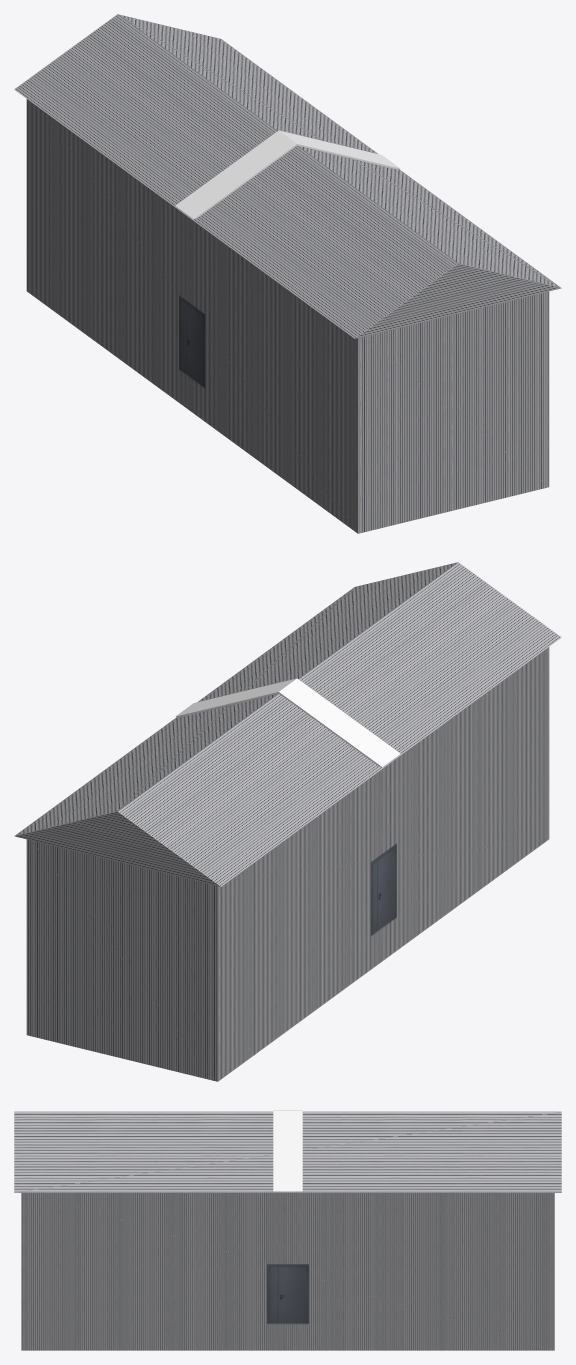
The model's file is LogisticHub.glb.
3 renders of one model, top to bottom at view 1: azimuth 30°, elevation 25°; view 2: azimuth 150°, elevation 25°; view 3: azimuth 270°, elevation 25°, orthographic. The views are drawn at different scales.
Visible parts, largest first — view 1: logistic_hub; view 2: logistic_hub; view 3: logistic_hub.
Boxes of the visible parts, left/top/right/bottom form: logistic_hub: left=14, top=14, right=561, bottom=533; logistic_hub: left=14, top=562, right=561, bottom=1081; logistic_hub: left=14, top=1110, right=561, bottom=1350.
Size of the model in its own units: 6.5 by 7.55 by 18.5.
Materials: 1 (1 with a texture image).
